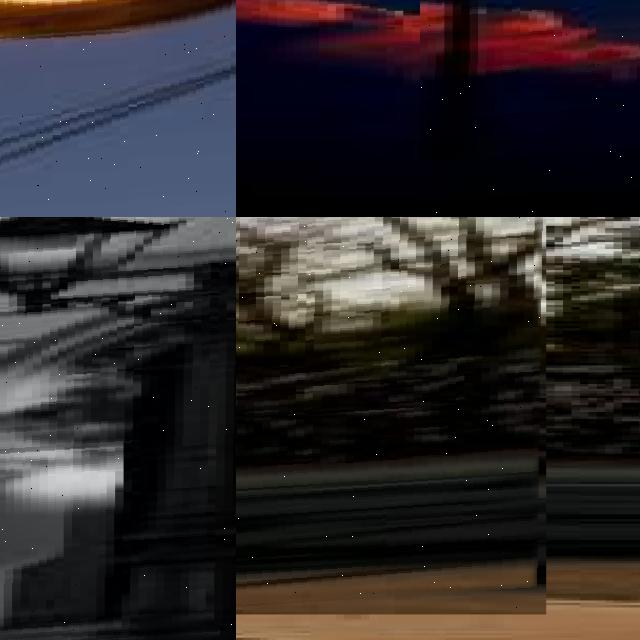street light: (236, 217, 546, 614), (0, 217, 236, 640), (0, 0, 236, 217), (420, 0, 640, 217)
